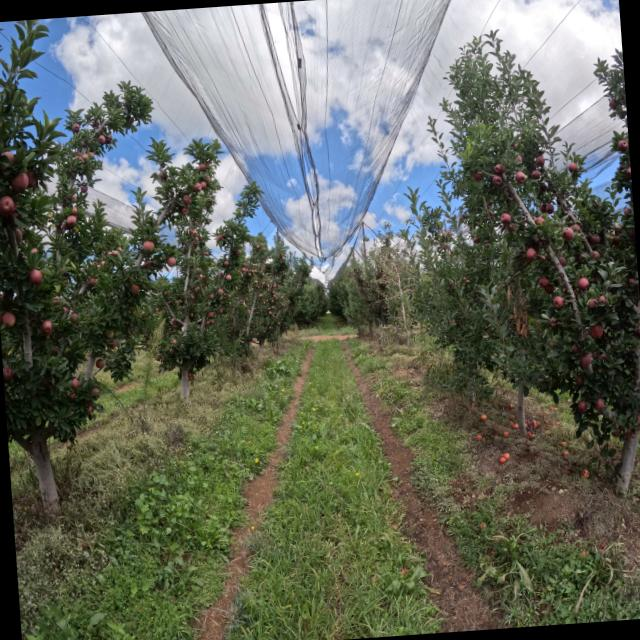-FireBlight-: (496, 275, 530, 339)
